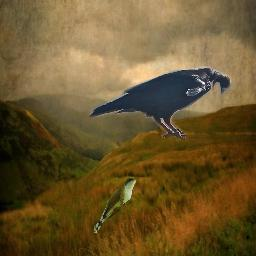Crow: (87, 66, 232, 141)
Cuckoo: (94, 177, 139, 233)
